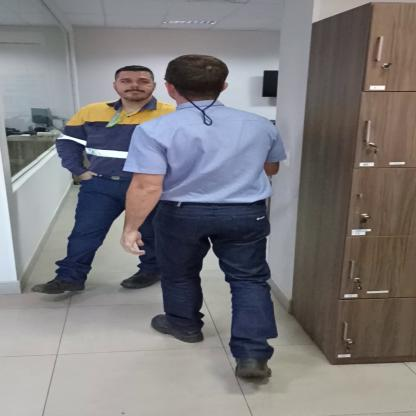Operacional: (57, 100, 130, 179)
